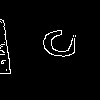S: (25, 25, 100, 61)
